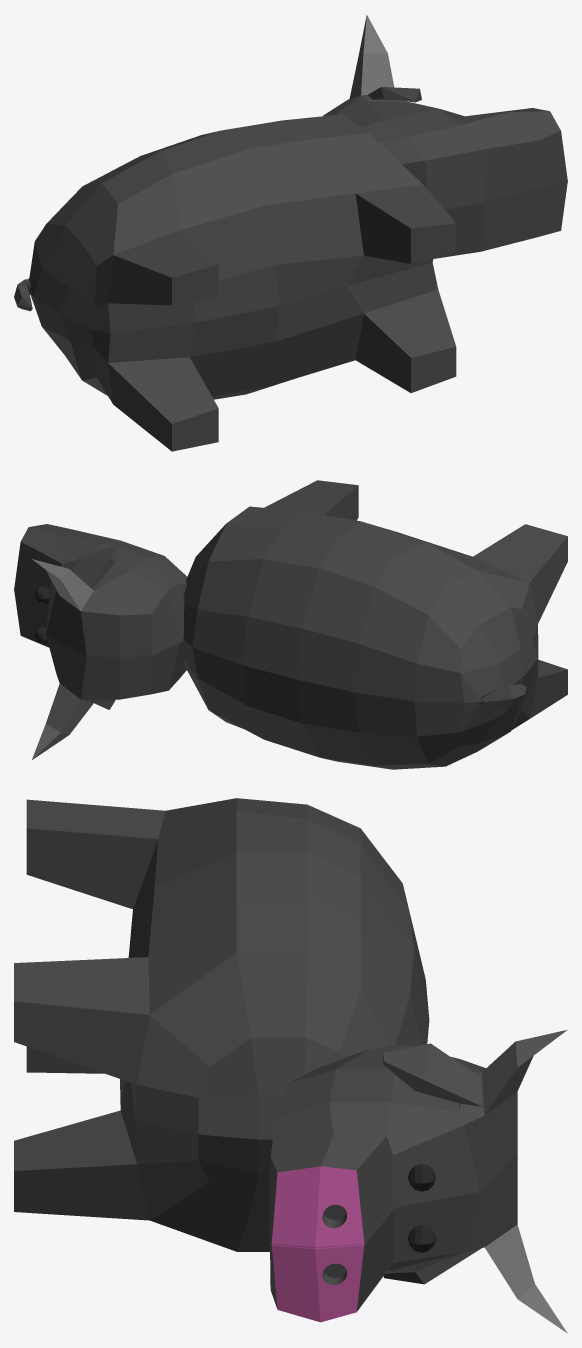
Rendered from cow.fbx.
3 renders of one model, top to bottom at view 1: azimuth 30°, elevation 25°; view 2: azimuth 150°, elevation 25°; view 3: azimuth 270°, elevation 25°, orthographic. The views are drawn at different scales.
Parts seen in each view (by area): view 1: Cube; view 2: Cube; view 3: Cube.
Boxes of the visible parts, <box> form: Cube: <box>14,14,567,451</box>; Cube: <box>14,480,567,769</box>; Cube: <box>14,798,567,1333</box>.
Bounding box in the file's own units: 261 × 112 × 167.
